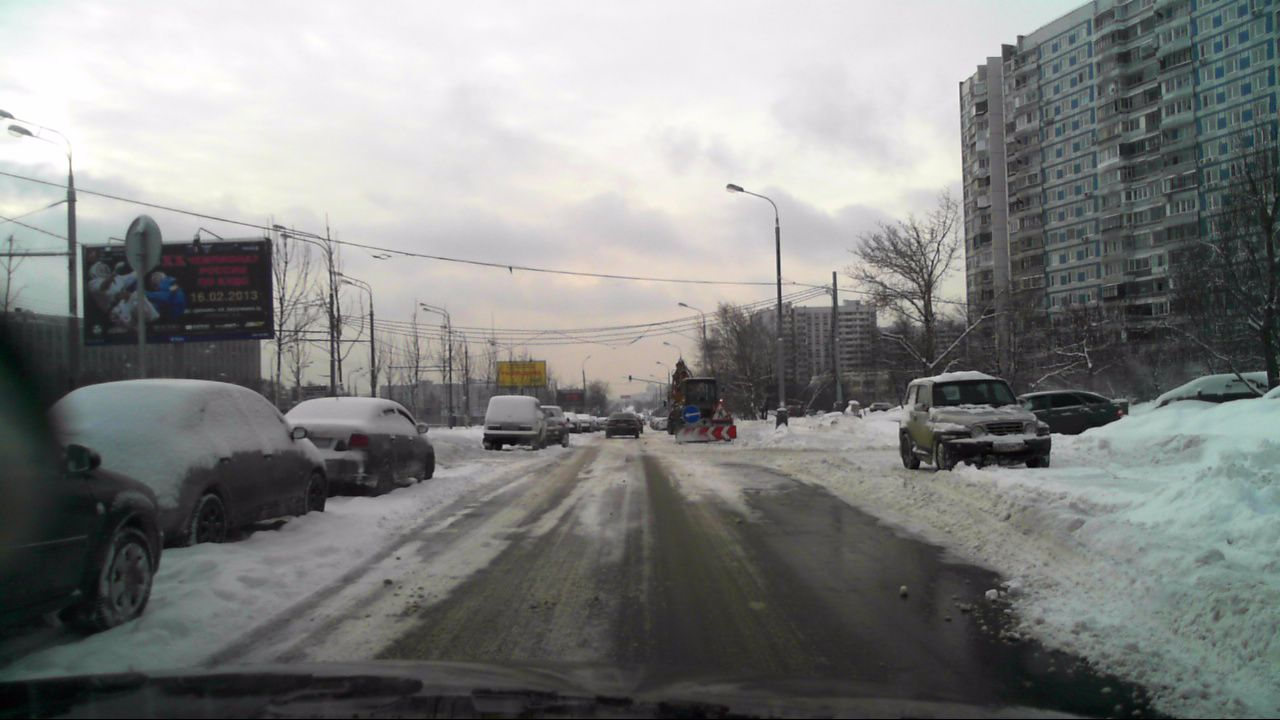Turn Left: (683, 405, 701, 424)
